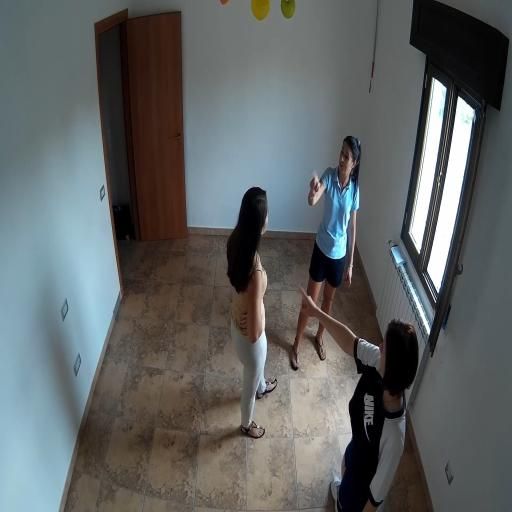nao-violencia: (291, 126, 428, 512)
